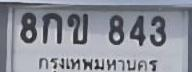3: (149, 15, 165, 46)
4: (129, 14, 145, 45)
8: (20, 11, 36, 42), (108, 14, 123, 44)
A01: (42, 12, 62, 43)
A02: (66, 13, 88, 44)
BKK: (37, 52, 159, 72)
